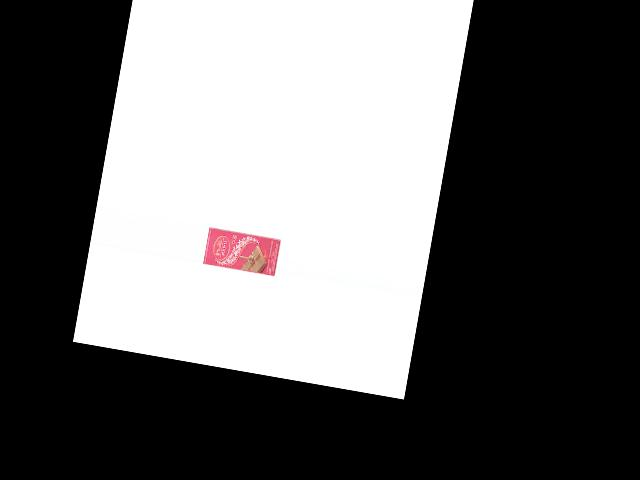chocolate: (202, 225, 280, 280)
